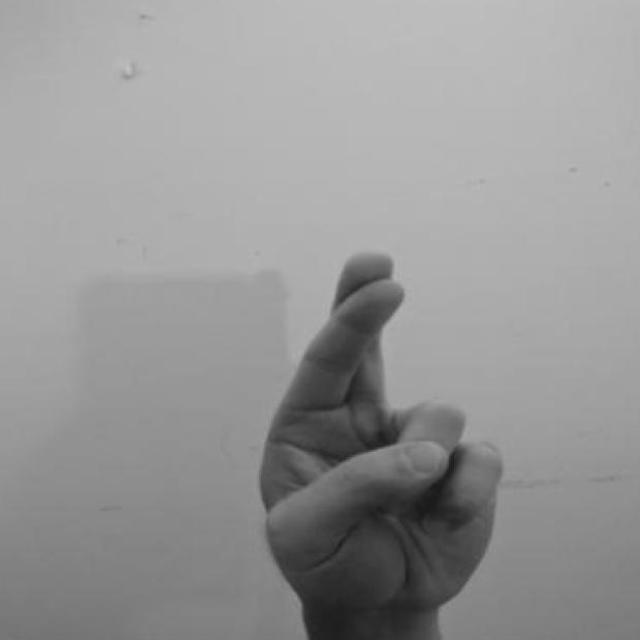R: (248, 243, 504, 640)
